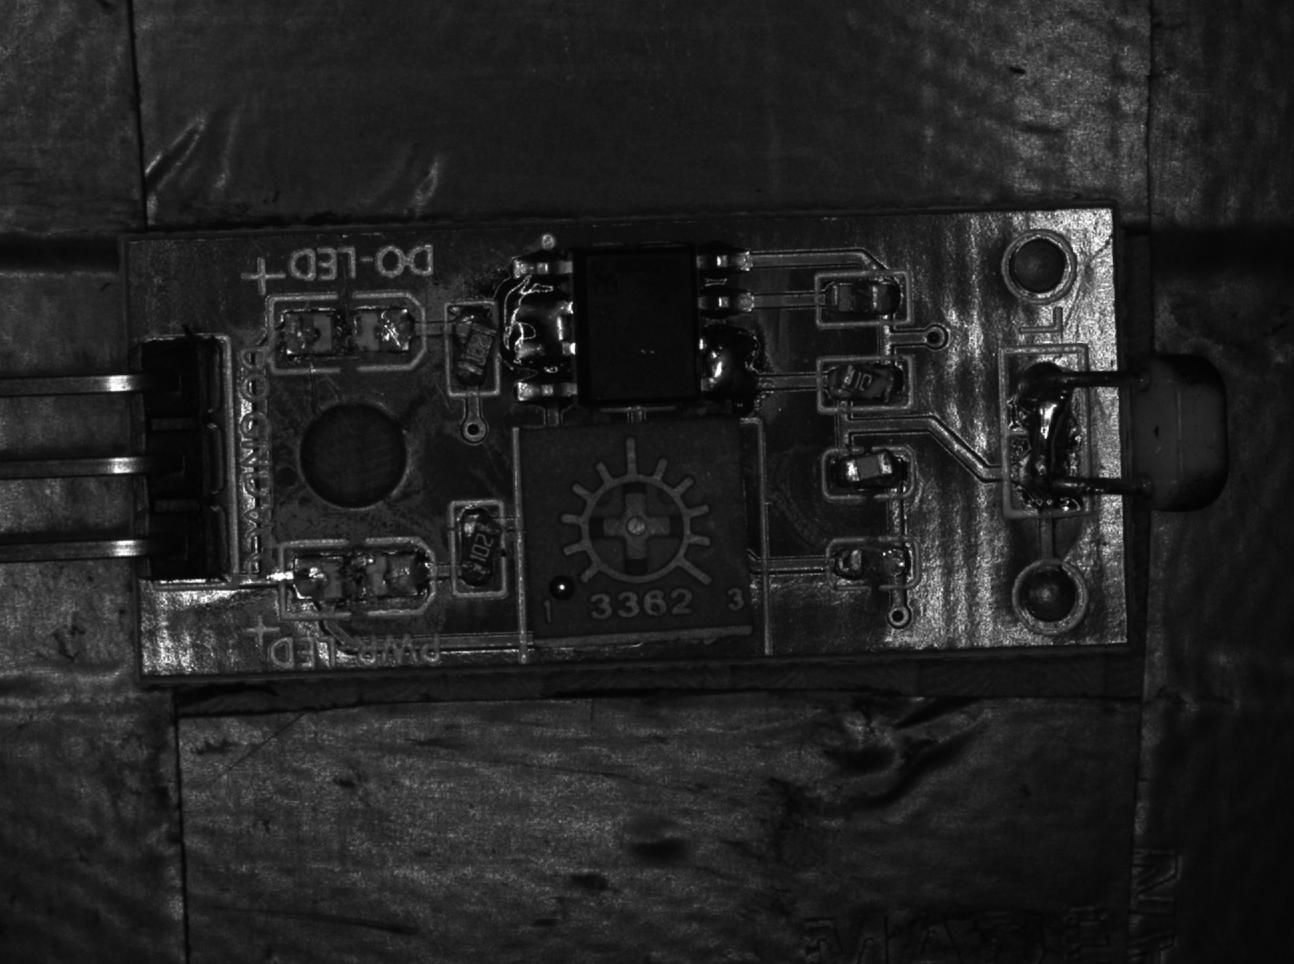bridge: (1002, 347, 1091, 516), (512, 289, 575, 377), (690, 323, 752, 410)
lifted: (451, 501, 507, 596), (815, 358, 914, 411), (816, 447, 917, 497), (447, 303, 498, 395)
miss: (816, 269, 913, 331), (824, 544, 920, 590)
